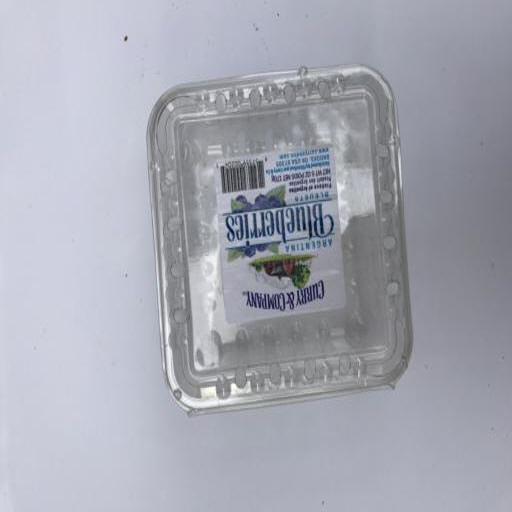Plastic_4: (145, 62, 414, 415)
